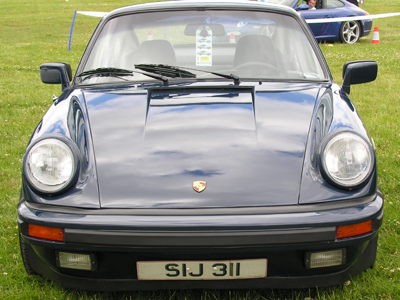licencePlate: (136, 258, 270, 281)
